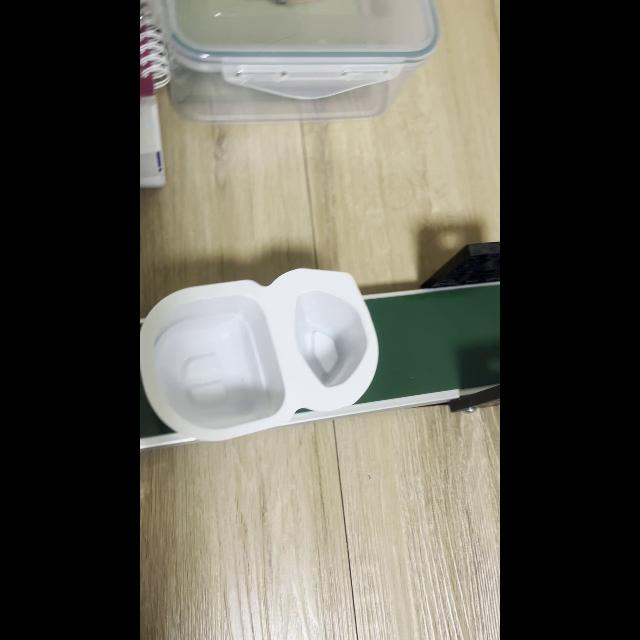clean: (149, 298, 367, 418)
